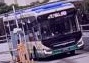bus: (60, 10, 67, 16)
